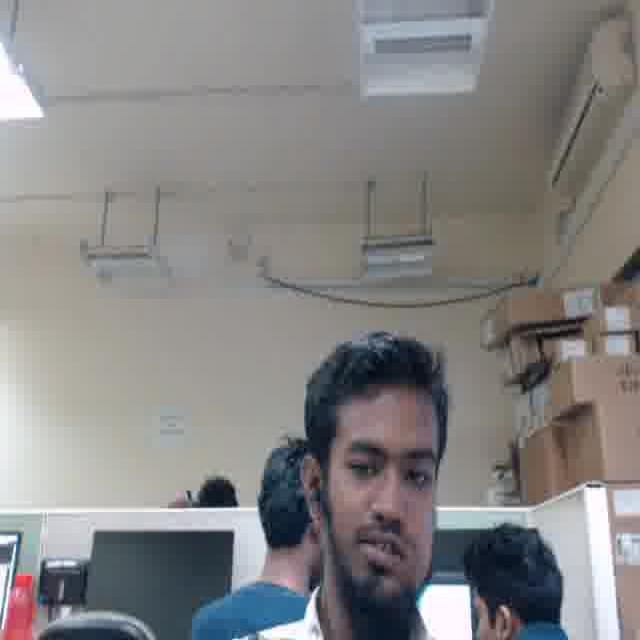Engaged: (323, 388, 440, 593)
